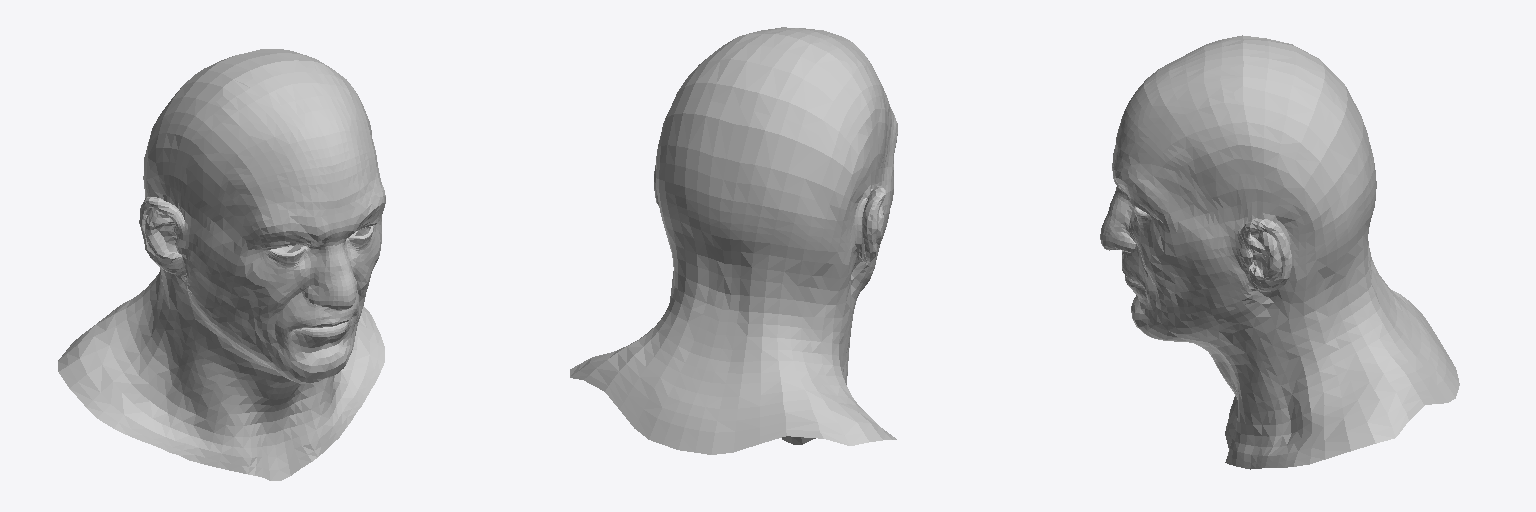
The model's file is Victor_headGEO.obj.
The picture shows the model from 3 angles: view 1: azimuth 30°, elevation 25°; view 2: azimuth 150°, elevation 25°; view 3: azimuth 270°, elevation 25°; orthographic projection.
Visible parts, largest first — view 1: Victor_headGEO Victor_Mesh def:geo FTI_Victor; view 2: Victor_headGEO Victor_Mesh def:geo FTI_Victor; view 3: Victor_headGEO Victor_Mesh def:geo FTI_Victor.
Part boxes in pixels (x1,y1,x2,y2): Victor_headGEO Victor_Mesh def:geo FTI_Victor: (58,49,385,480); Victor_headGEO Victor_Mesh def:geo FTI_Victor: (570,27,897,454); Victor_headGEO Victor_Mesh def:geo FTI_Victor: (1100,35,1459,469).
Size of the model in its own units: 3.54 by 4.64 by 3.65.